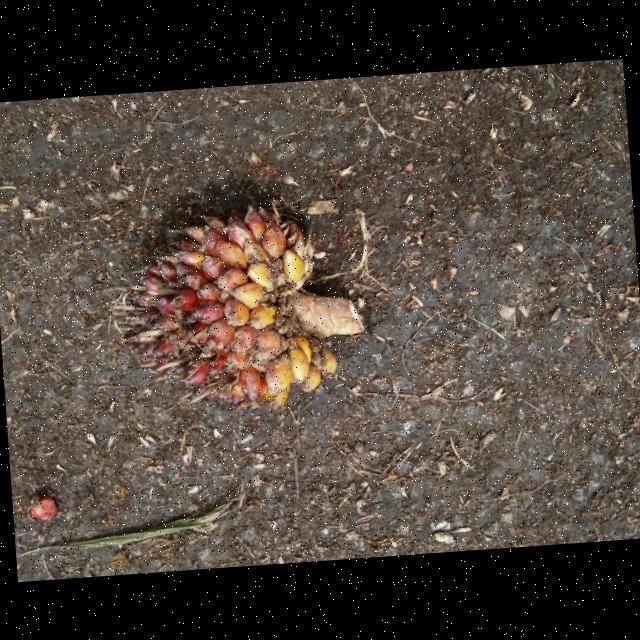Ripe: (117, 198, 350, 423)
